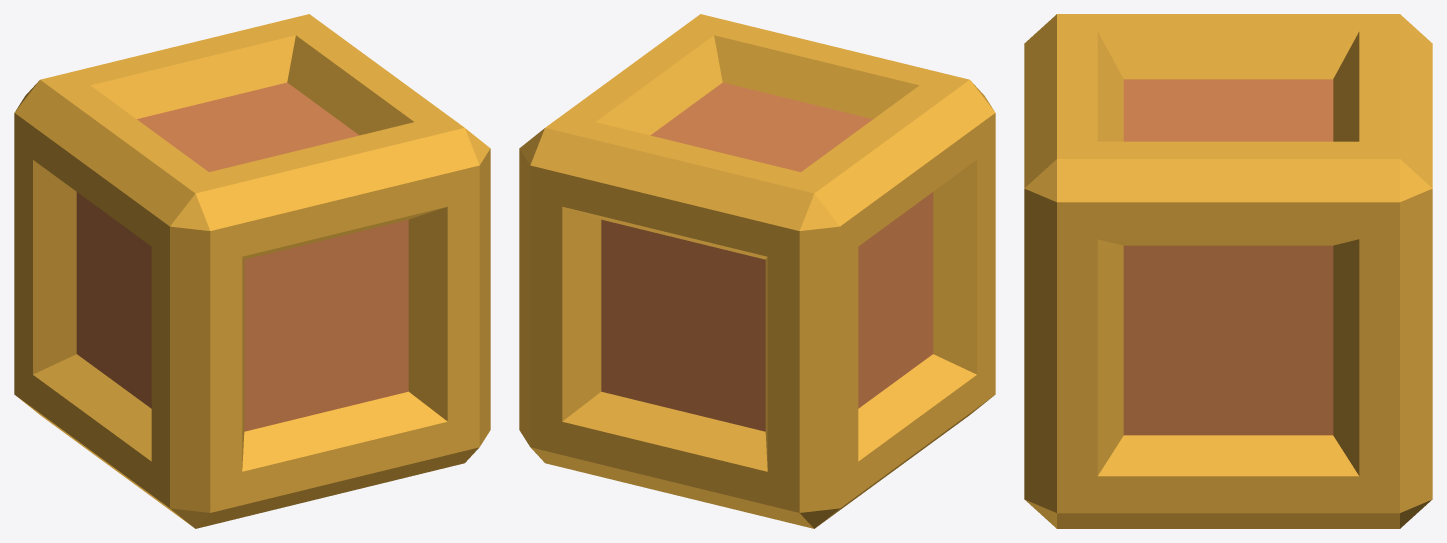
The model's file is crateItem.fbx.
3 views of the same model, side by side, from view 1: azimuth 30°, elevation 25°; view 2: azimuth 150°, elevation 25°; view 3: azimuth 270°, elevation 25° (orthographic). The views are drawn at different scales.
Parts seen in each view (by area): view 1: crateItem; view 2: crateItem; view 3: crateItem.
Part boxes in pixels (box(x1,y1,x2,y2)): crateItem: box(14, 14, 490, 528); crateItem: box(519, 14, 995, 528); crateItem: box(1024, 14, 1432, 528).
Size of the model in its own units: 5 by 5 by 5.
